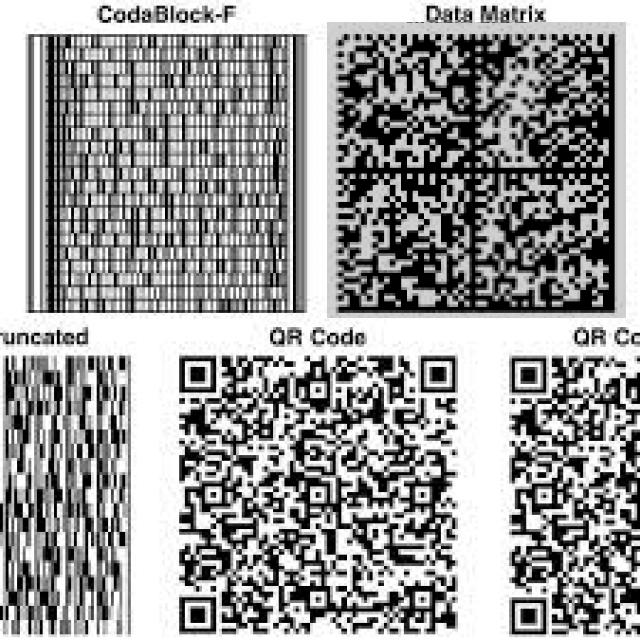DataMatrix: (327, 23, 626, 319)
